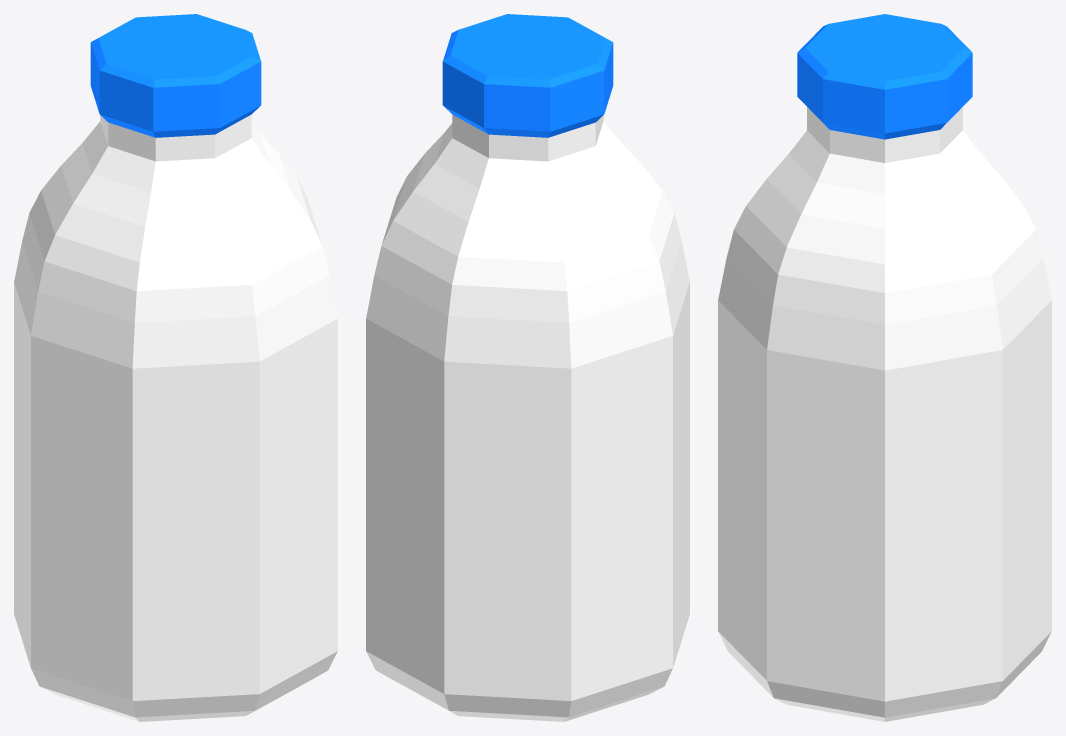
The model's file is plastic_canister.gltf.
3 renders of one model, left to right at view 1: azimuth 30°, elevation 25°; view 2: azimuth 150°, elevation 25°; view 3: azimuth 270°, elevation 25°, orthographic.
Parts seen in each view (by area): view 1: Cylinder; view 2: Cylinder; view 3: Cylinder.
Boxes of the visible parts, x1=… form: Cylinder: x1=14, y1=14, x2=337, y2=721; Cylinder: x1=366, y1=14, x2=689, y2=721; Cylinder: x1=718, y1=14, x2=1051, y2=721.
Size of the model in its own units: 0.1337 by 0.2735 by 0.1337.
